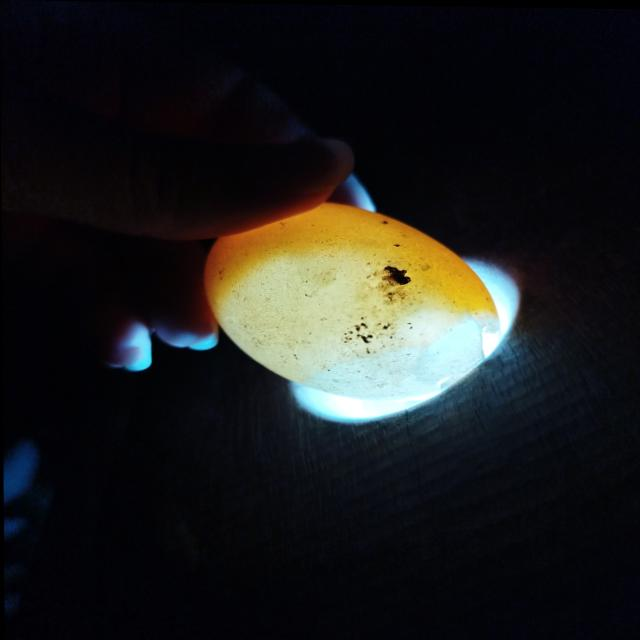Camara de Ar: (303, 319, 477, 398)
Gema Quebrada: (204, 204, 493, 319)
